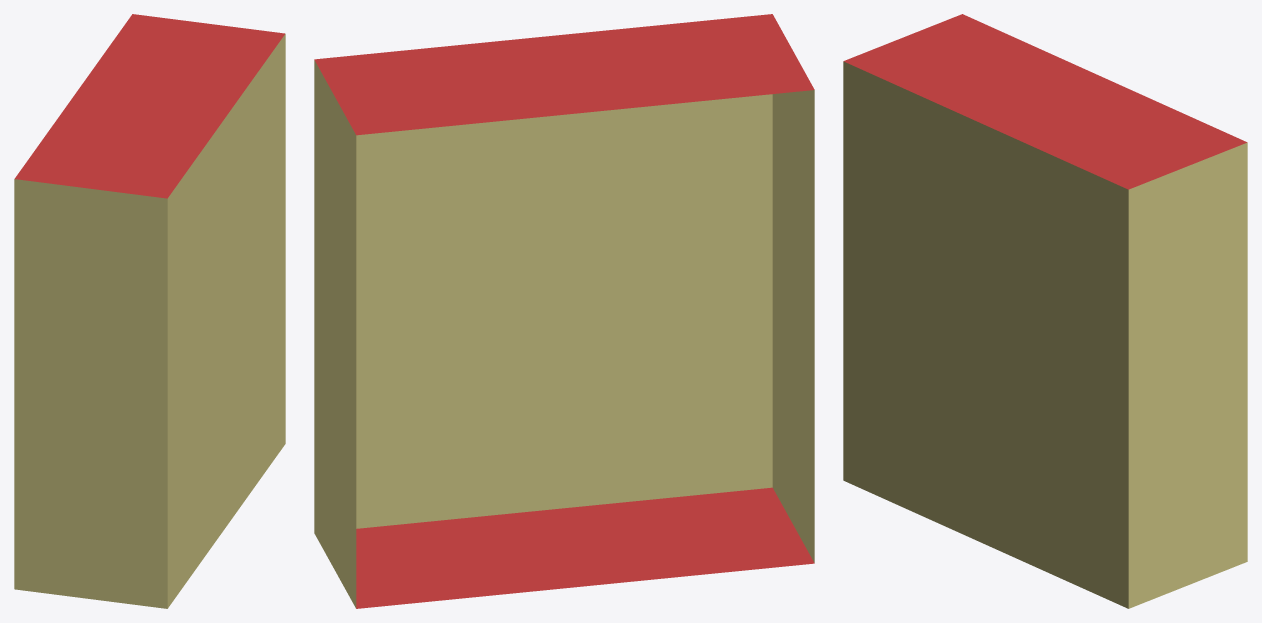
The picture shows the model from 3 angles, left to right: view 1: azimuth 30°, elevation 25°; view 2: azimuth 150°, elevation 25°; view 3: azimuth 270°, elevation 25°; orthographic projection. The views are drawn at different scales.
Visible parts, largest first — view 1: group_4, group_3; view 2: group_4, group_3, group_5; view 3: group_4, group_3.
Boxes of the visible parts, <box> form: group_4: <box>14,34,285,608</box>; group_3: <box>14,14,284,198</box>; group_4: <box>314,60,814,608</box>; group_3: <box>314,14,814,135</box>; group_5: <box>356,487,814,608</box>; group_4: <box>843,61,1247,608</box>; group_3: <box>843,14,1247,189</box>.
Bounding box in the file's own units: 6.77 × 6.59 × 7.54.
